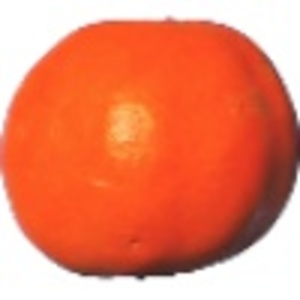tangerina: (2, 16, 300, 280)
